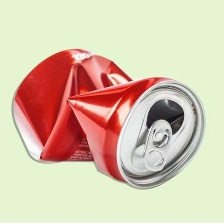can: (5, 40, 211, 191)
